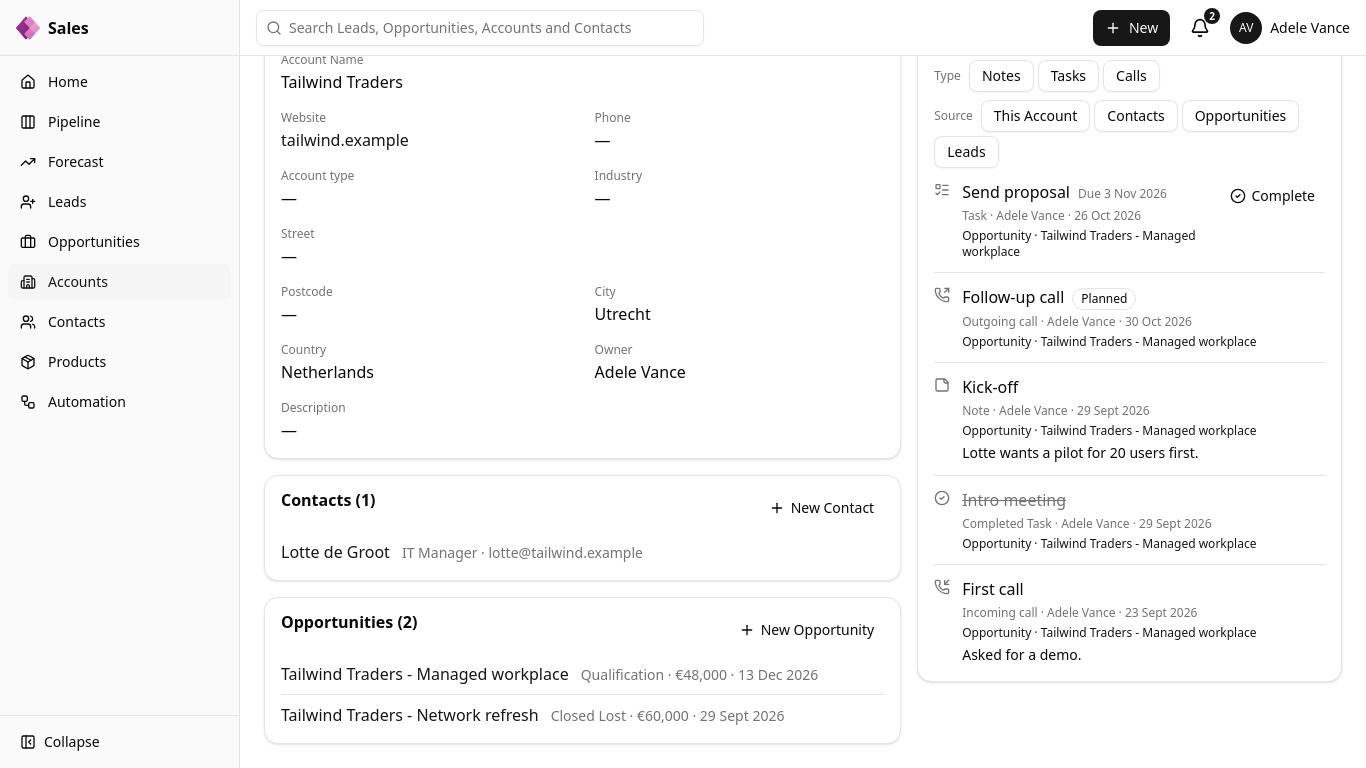
Opportunities flow › starts a New Opportunity from its Account
(page scrolled)
Click the button "New Opportunity": (806, 630) [729,614,884,646]
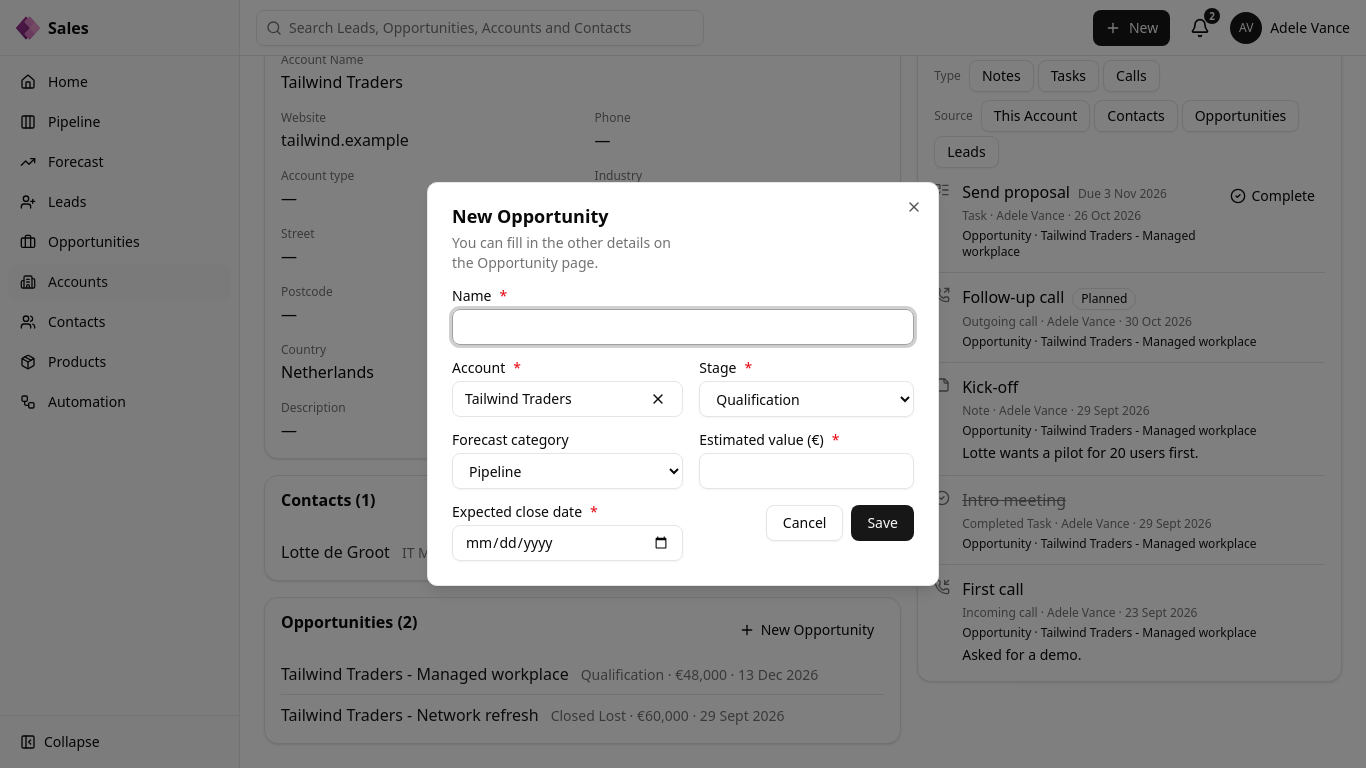
Now the text "Tailwind Traders" is shown, box [465,389,572,408]
